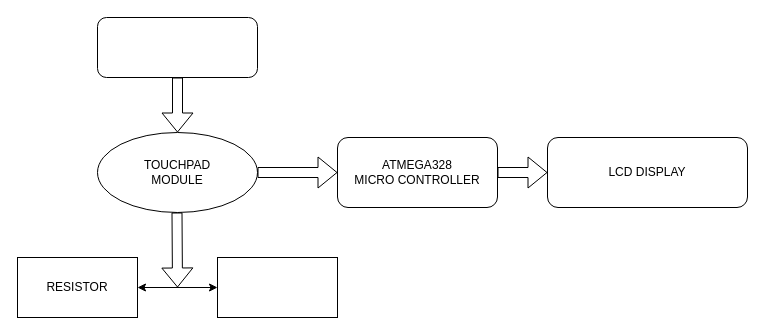
Some shapes in this 765 by 335 pixel diagram are drawn without their labels. The box of each missing label's shape, as (x1, y1, x2, y2) in pixels:
CAPACITOR: (216, 256, 338, 318)
SUPPLY VOLTAGE: (96, 16, 258, 78)
